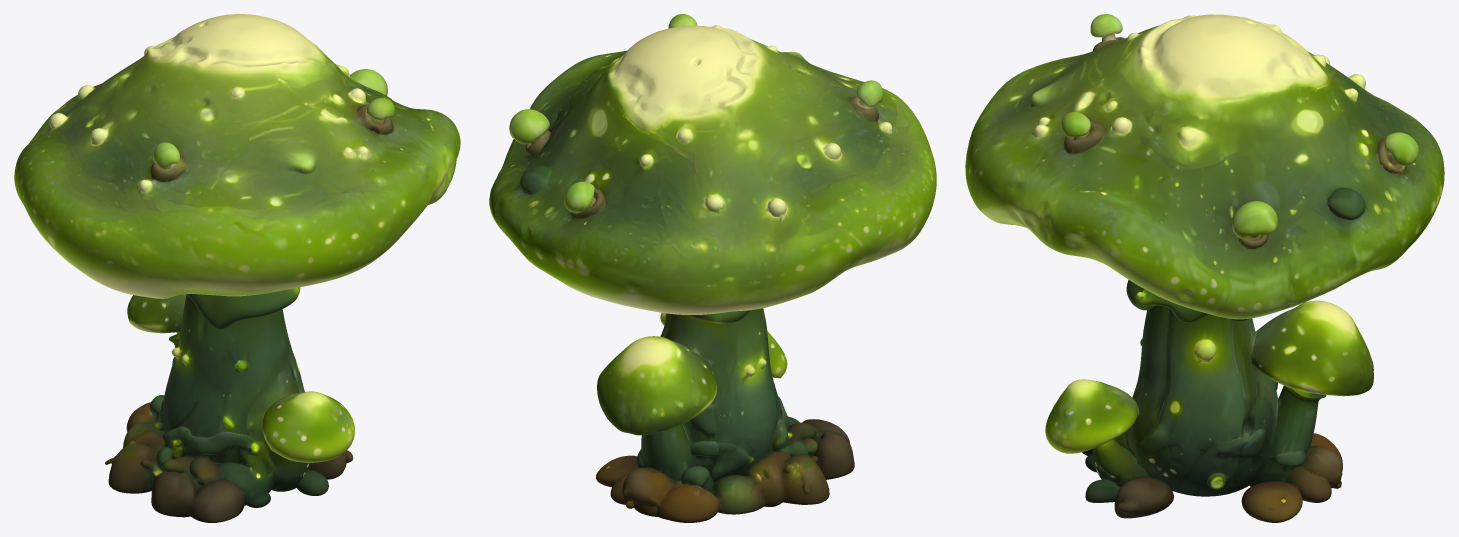
File: nature-mushroom-glow-green.glb
The picture shows the model from 3 angles, left to right: view 1: azimuth 30°, elevation 25°; view 2: azimuth 150°, elevation 25°; view 3: azimuth 270°, elevation 25°; orthographic projection. The views are drawn at different scales.
Visible parts, largest first — view 1: tripo_node_b61f4833-fee8-4ed0-9988-13ca16aacb49; view 2: tripo_node_b61f4833-fee8-4ed0-9988-13ca16aacb49; view 3: tripo_node_b61f4833-fee8-4ed0-9988-13ca16aacb49.
Part boxes in pixels (x1,y1,x2,y2): tripo_node_b61f4833-fee8-4ed0-9988-13ca16aacb49: (14, 14, 460, 522); tripo_node_b61f4833-fee8-4ed0-9988-13ca16aacb49: (489, 14, 936, 522); tripo_node_b61f4833-fee8-4ed0-9988-13ca16aacb49: (965, 14, 1444, 522).
Size of the model in its own units: 0.3772 by 0.4 by 0.372.
1 material, 1 textured.
